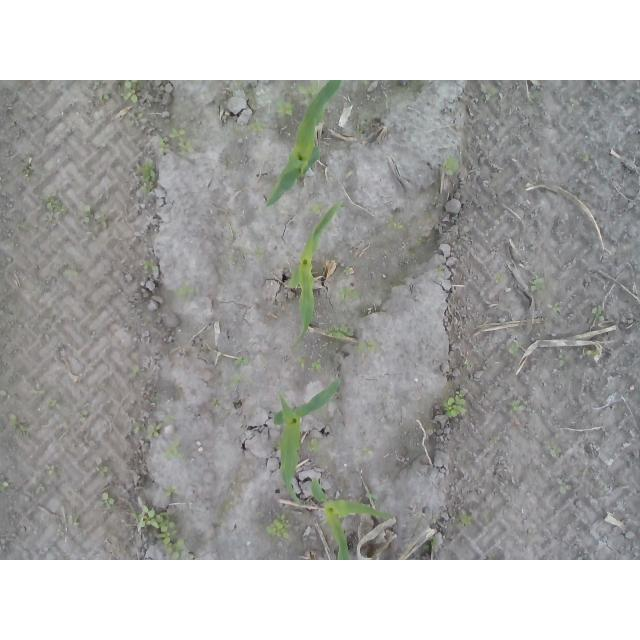Maize: (264, 80, 344, 208), (271, 379, 345, 506), (289, 201, 343, 348), (310, 477, 395, 560)
Weeds: (131, 496, 197, 560), (159, 125, 194, 159), (440, 387, 469, 418), (40, 190, 65, 223), (136, 160, 159, 193), (290, 81, 323, 104), (265, 511, 291, 539), (233, 120, 271, 136), (335, 286, 365, 306), (118, 80, 143, 104), (94, 488, 119, 512), (7, 415, 33, 438), (81, 203, 108, 225), (175, 281, 199, 304), (275, 94, 296, 120), (132, 421, 161, 439), (227, 371, 253, 391), (161, 440, 185, 461), (440, 153, 461, 175), (327, 321, 354, 338), (296, 356, 322, 371), (384, 213, 404, 232), (355, 339, 381, 353), (454, 510, 472, 529), (480, 83, 499, 101), (128, 112, 149, 128), (528, 276, 545, 292), (64, 512, 81, 528), (591, 307, 609, 321), (576, 346, 598, 357), (142, 257, 158, 272), (218, 497, 234, 512), (511, 399, 526, 414), (163, 483, 178, 498), (234, 356, 251, 369), (307, 438, 321, 453), (95, 465, 109, 480), (360, 447, 372, 463), (310, 201, 323, 215), (558, 481, 570, 496), (558, 351, 568, 369), (79, 408, 90, 424), (64, 267, 81, 277), (34, 482, 46, 495), (19, 165, 33, 176), (30, 388, 46, 397), (0, 475, 8, 493), (45, 462, 56, 475), (547, 303, 561, 313), (509, 344, 521, 355), (494, 271, 504, 284), (629, 88, 640, 99), (99, 93, 110, 104), (367, 494, 382, 502), (256, 244, 265, 257), (343, 167, 353, 178), (148, 394, 160, 403), (48, 399, 58, 409), (549, 449, 560, 458), (416, 239, 428, 247), (354, 126, 366, 134), (343, 264, 353, 273), (221, 111, 231, 120), (359, 80, 369, 89), (436, 264, 445, 273), (212, 400, 221, 409), (131, 368, 141, 376), (430, 537, 438, 546), (464, 359, 473, 365), (332, 111, 337, 119)
